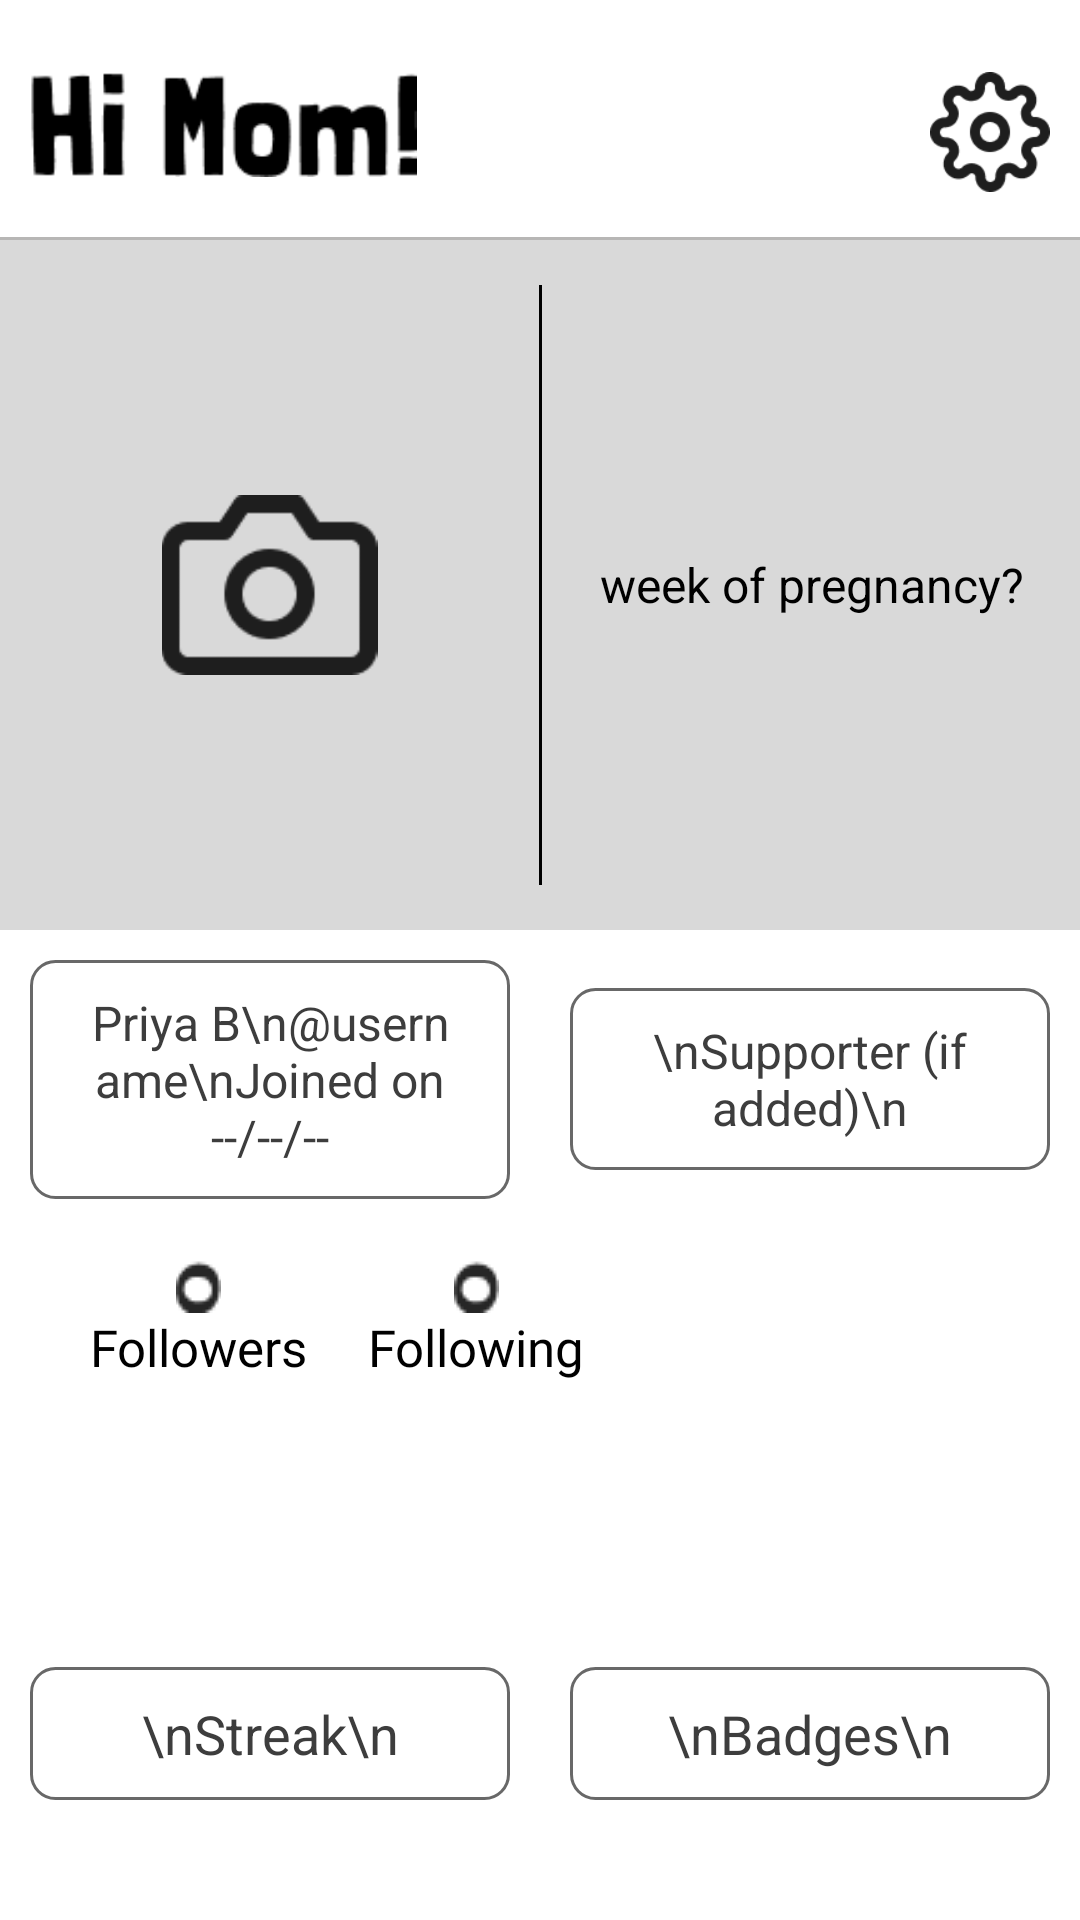

Where to tap for icons on this 1080*1920 app screen, as point (x, y):
camera: point (270, 585)
settings: point (990, 132)
